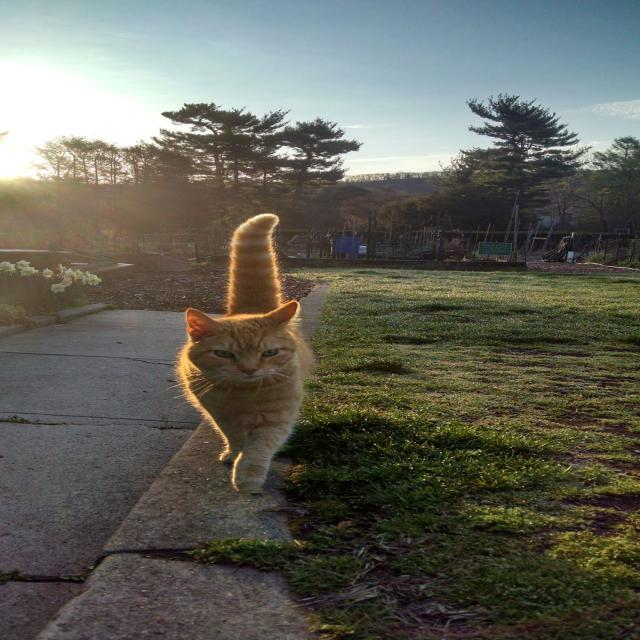sarman: (178, 214, 312, 493)
